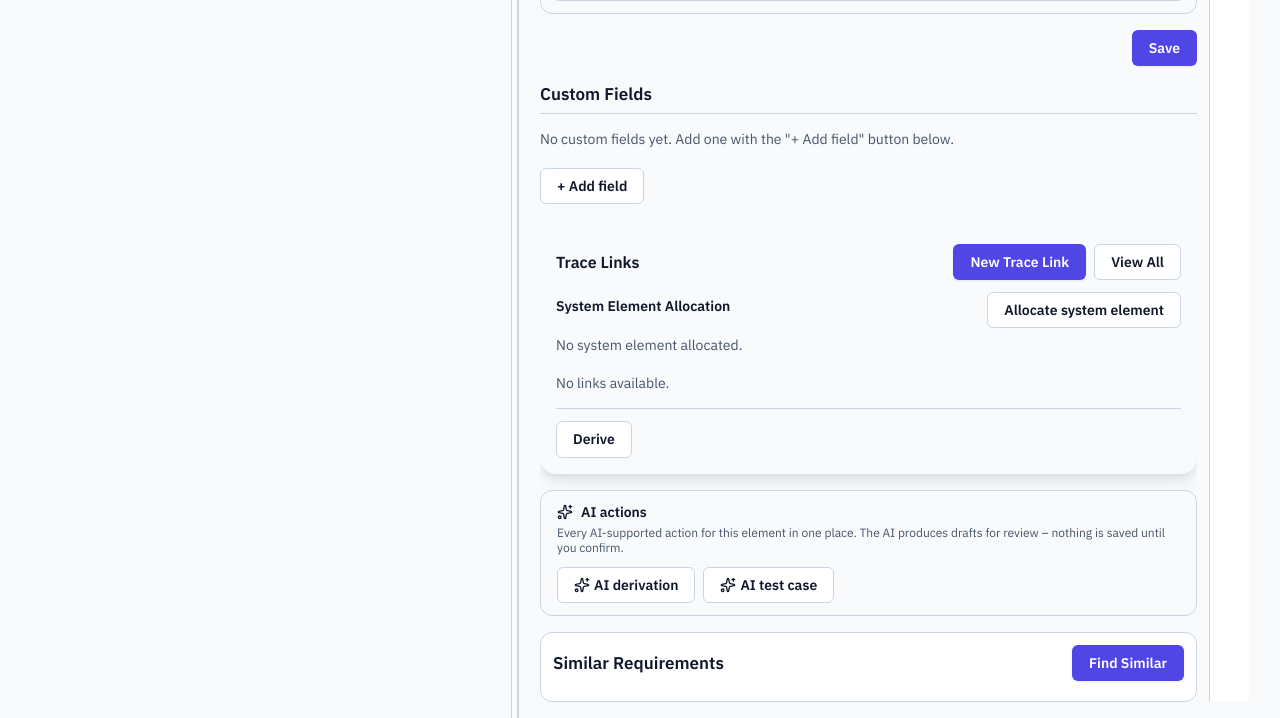
Test: RequirementEditors (COMP-RF-003 / REQ-L2-RF-003) › renders a non-empty AI derivation as reviewable drafts, not as a save (issue #311/#1368)
(page scrolled)
Step 1. Click the button with test id "req-ai-derive-btn" → click(626, 585), box [557,567,695,603]
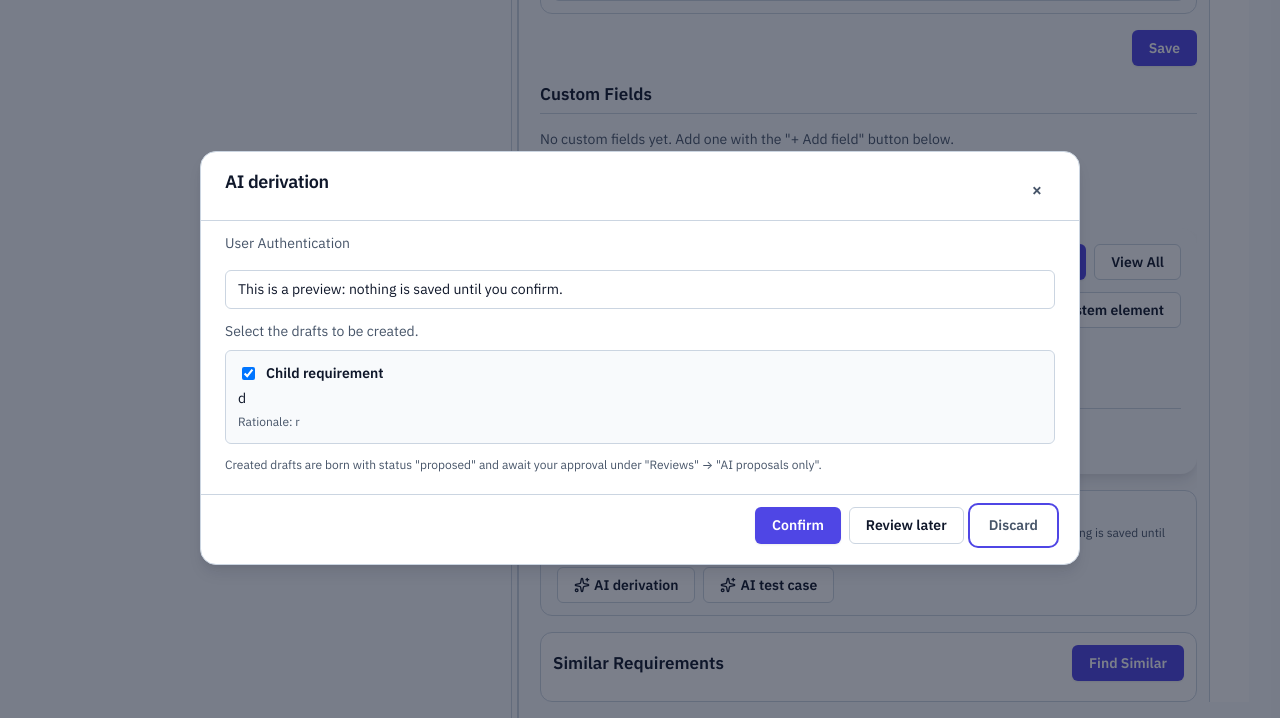
Check: the text with test id "req-derive-drafts-title-0" reads "Child requirement", box [266,364,384,382]
